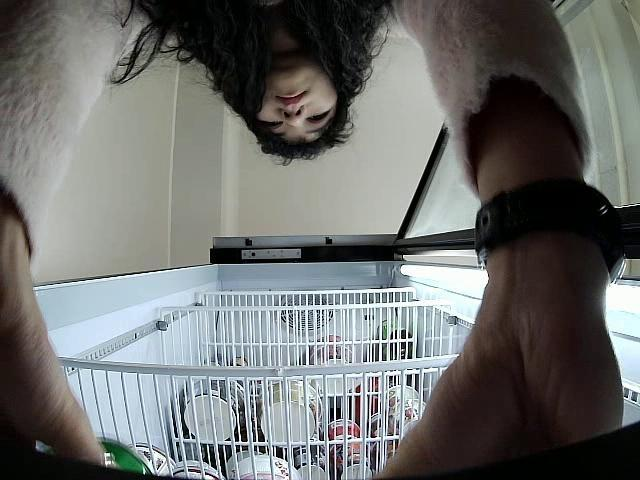12_chilsungCider: (42, 436, 156, 480)
